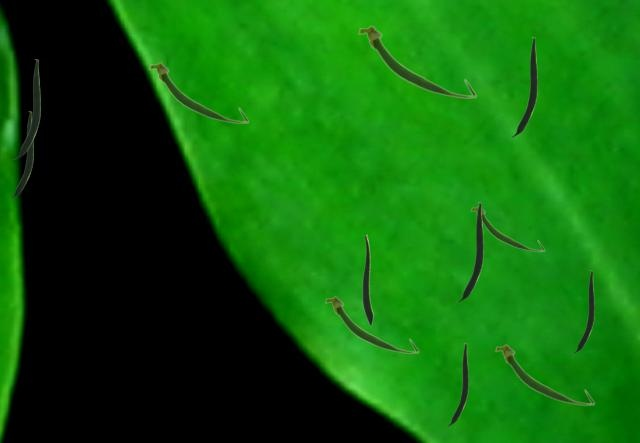french_bean: (357, 25, 476, 98), (494, 343, 594, 405), (148, 61, 248, 123), (324, 295, 418, 353), (470, 206, 544, 251), (511, 37, 536, 136), (14, 59, 39, 158), (457, 202, 482, 301), (10, 111, 32, 197), (573, 270, 593, 352), (447, 343, 467, 425), (362, 234, 372, 325)
